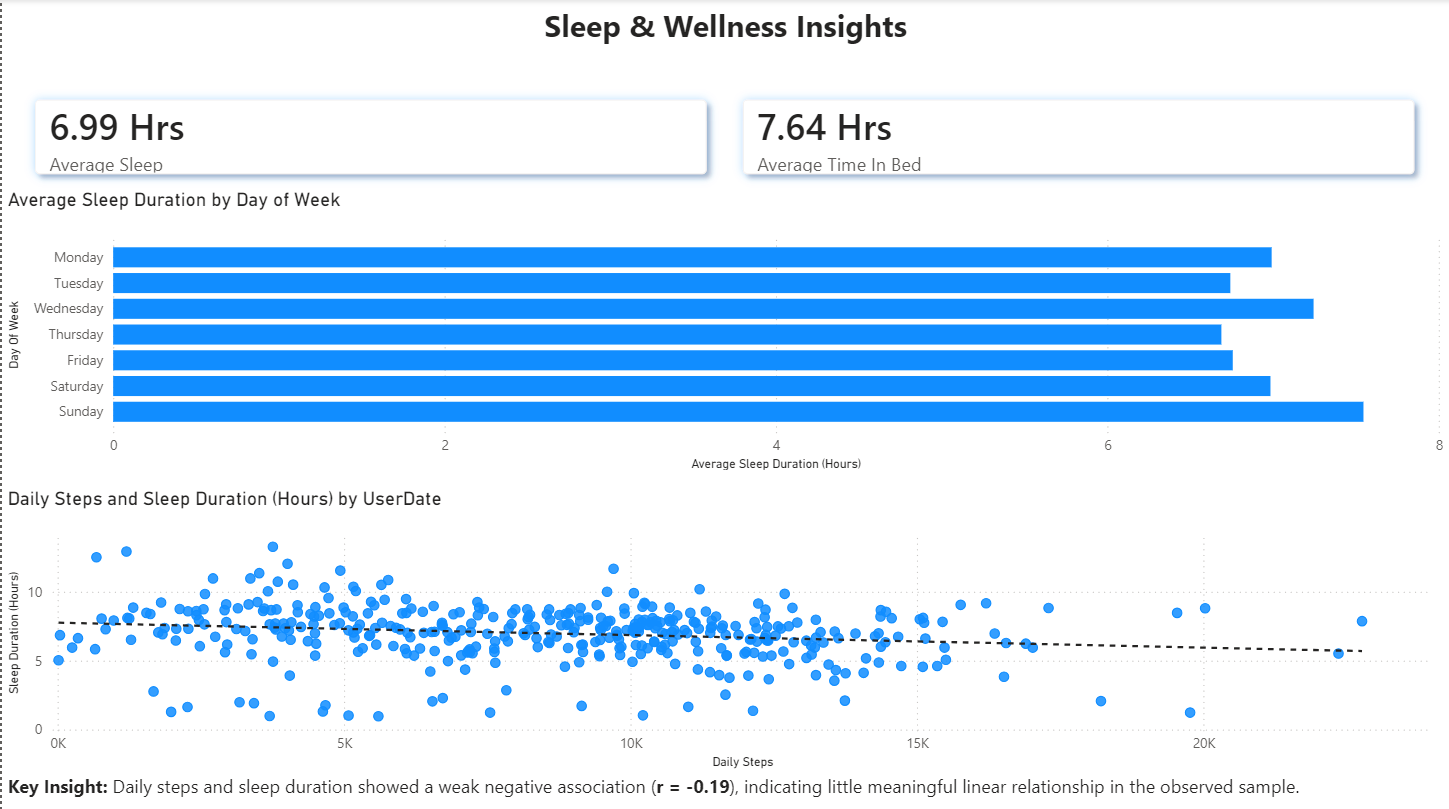

Layout of this report page (visuals, bound fields, positions):
{"tool":"powerbi","page":{"name":"Page 2","canvas":[1280,720],"ordinal":1},"visuals":[{"type":"textbox","box":[0,0,1280.2,46.8],"z":0},{"type":"cardVisual","fields":{"Data":["Avg(sleepDay_cleaned.TotalSleepHours)","Avg(sleepDay_cleaned.TimeInBedHours)"]},"box":[0,59.1,1279.5,124.2],"z":1000},{"type":"barChart","title":"Average Sleep Duration by Day of Week","fields":{"Category":["sleepDay_cleaned.DayOfWeek"],"Y":["Avg(sleepDay_cleaned.TotalSleepHours)"]},"box":[0,166.6,1279.5,254.4],"z":2000},{"type":"textbox","box":[0,679.9,1279.5,39.4],"z":4000},{"type":"scatterChart","fields":{"X":["Sum(activity_sleep_analysis.TotalSteps)"],"Y":["Sum(activity_sleep_analysis.TotalSleepHours)"],"Category":["activity_sleep_analysis.UserDate"]},"box":[0,431,1280,254],"z":4001}]}

Visuals, with their boxes in screenshot pixels (x1, y1, x2, y2), scaled from the page's 1280x720 canvas onto the 1449x809 screenshot:
textbox: left=0, top=0, right=1448, bottom=53
cardVisual - Avg(sleepDay_cleaned.TotalSleepHours) x Avg(sleepDay_cleaned.TimeInBedHours): left=0, top=66, right=1448, bottom=206
"Average Sleep Duration by Day of Week" barChart: left=0, top=187, right=1448, bottom=473
textbox: left=0, top=764, right=1448, bottom=808
scatterChart - Sum(activity_sleep_analysis.TotalSteps) x Sum(activity_sleep_analysis.TotalSleepHours): left=0, top=484, right=1448, bottom=770
